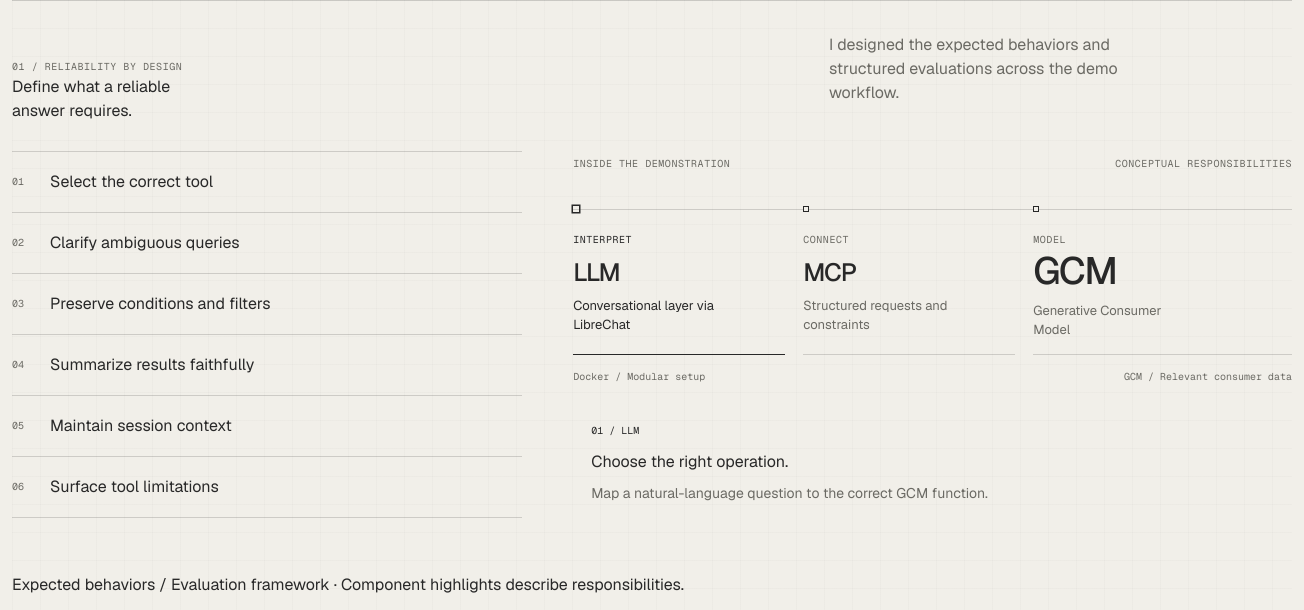
it: GCM ledger using mouse › connects Preserve conditions and filters to its requirement and responsible components
Step 1. Click the button "06 Surface tool limitations" → (134, 486), box [12,457,522,518]
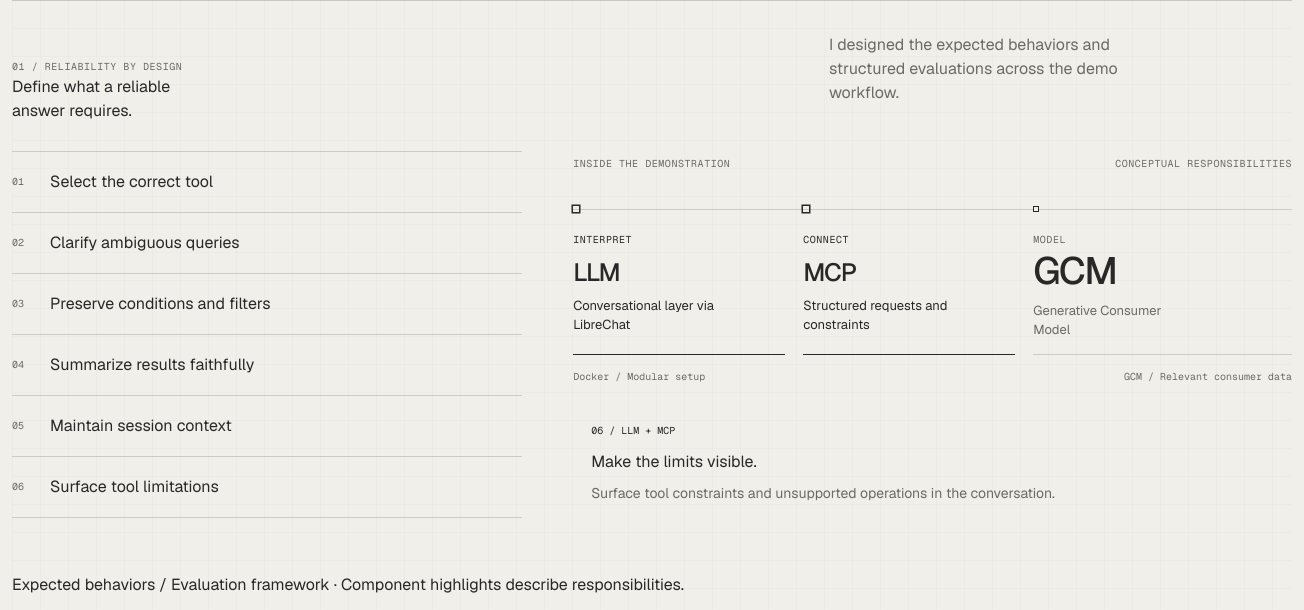
Step 2. Hover over the button "03 Preserve conditions and filters" → (267, 304), box [12,274,522,335]
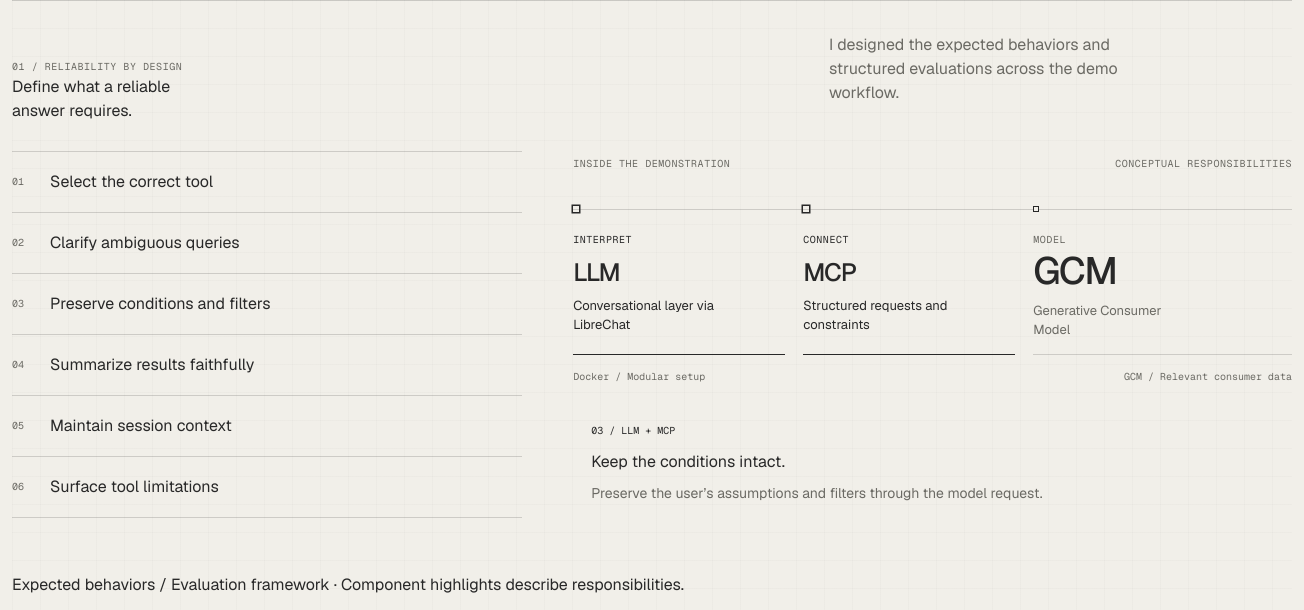
Expected: the heading "Keep the conditions intact." is shown, [591,451,785,472]
